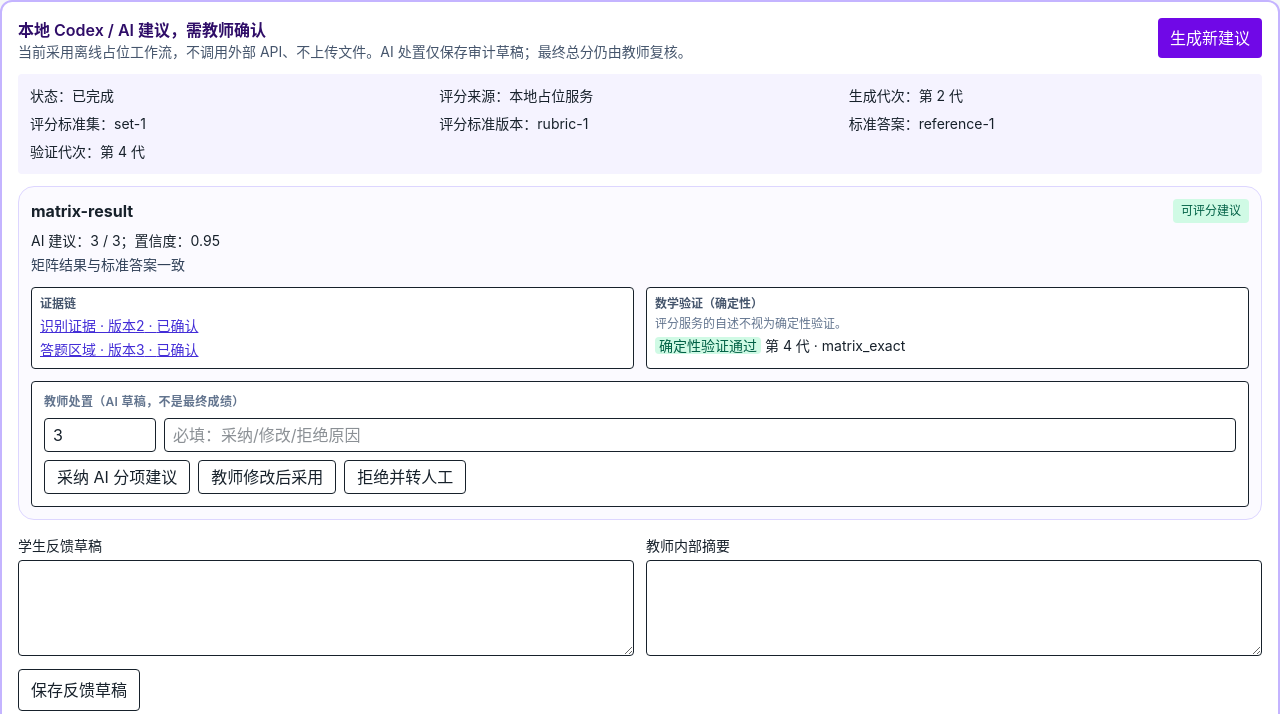
Test: AIGradingReview › surfaces duplicate disposition errors and prevents rapid double submits
Expected: the text "matrix-result" is shown, x1=31 y1=199 x2=133 y2=223
Step 1. Type "重复提交测试" into the field named "matrix-result 修改原因" → (700, 435), box x1=164 y1=418 x2=1236 y2=452
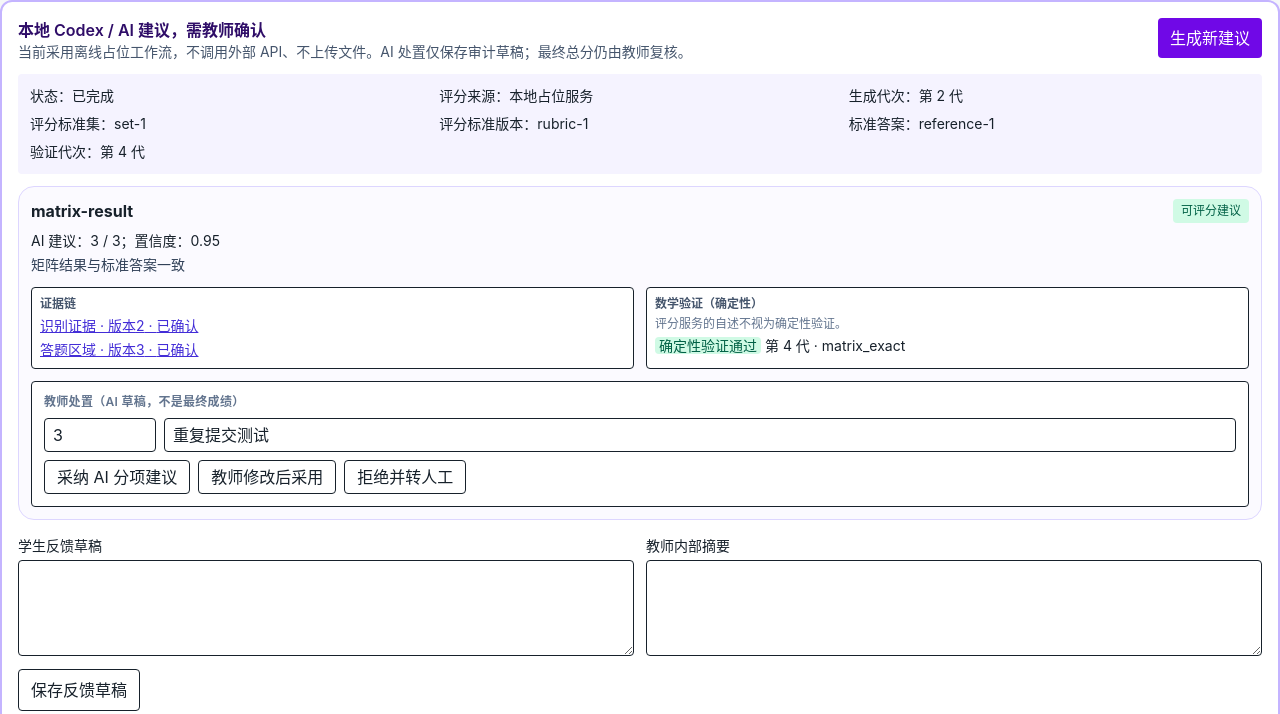
Step 2. Click the button "拒绝并转人工" → (405, 477), box x1=344 y1=460 x2=466 y2=494
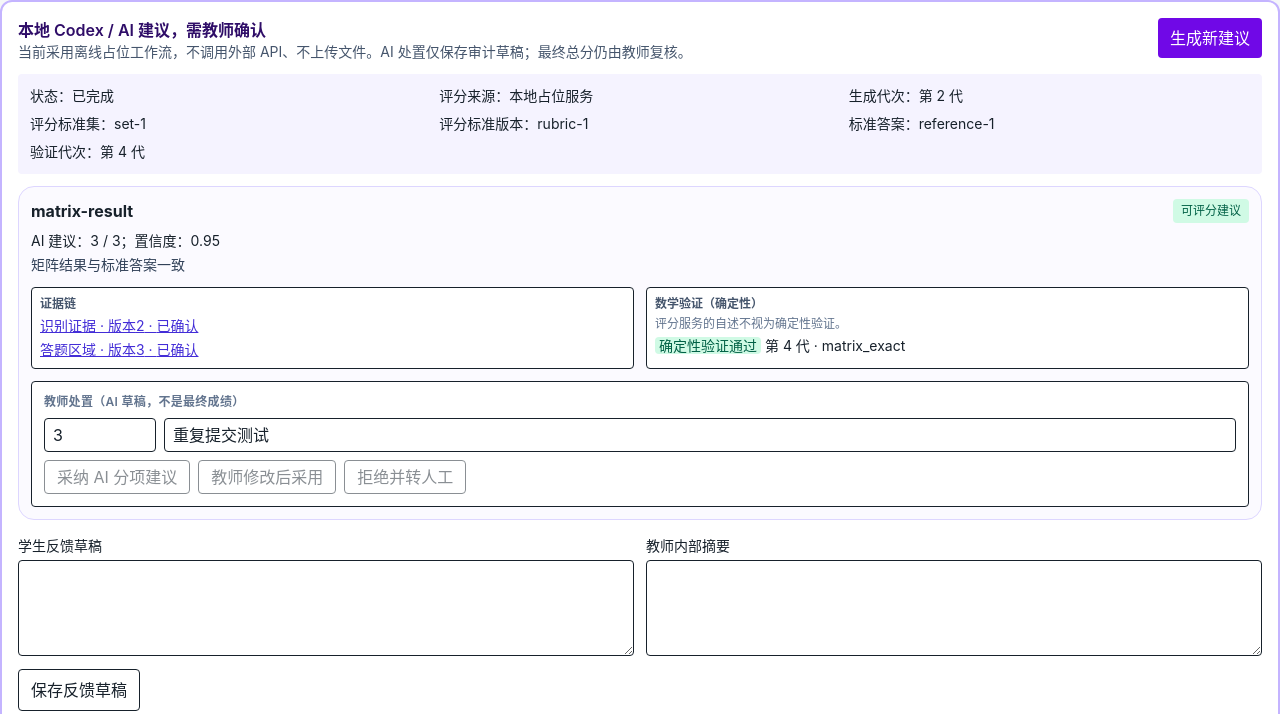
Step 3. Click the button "拒绝并转人工" → (405, 477), box x1=344 y1=460 x2=466 y2=494
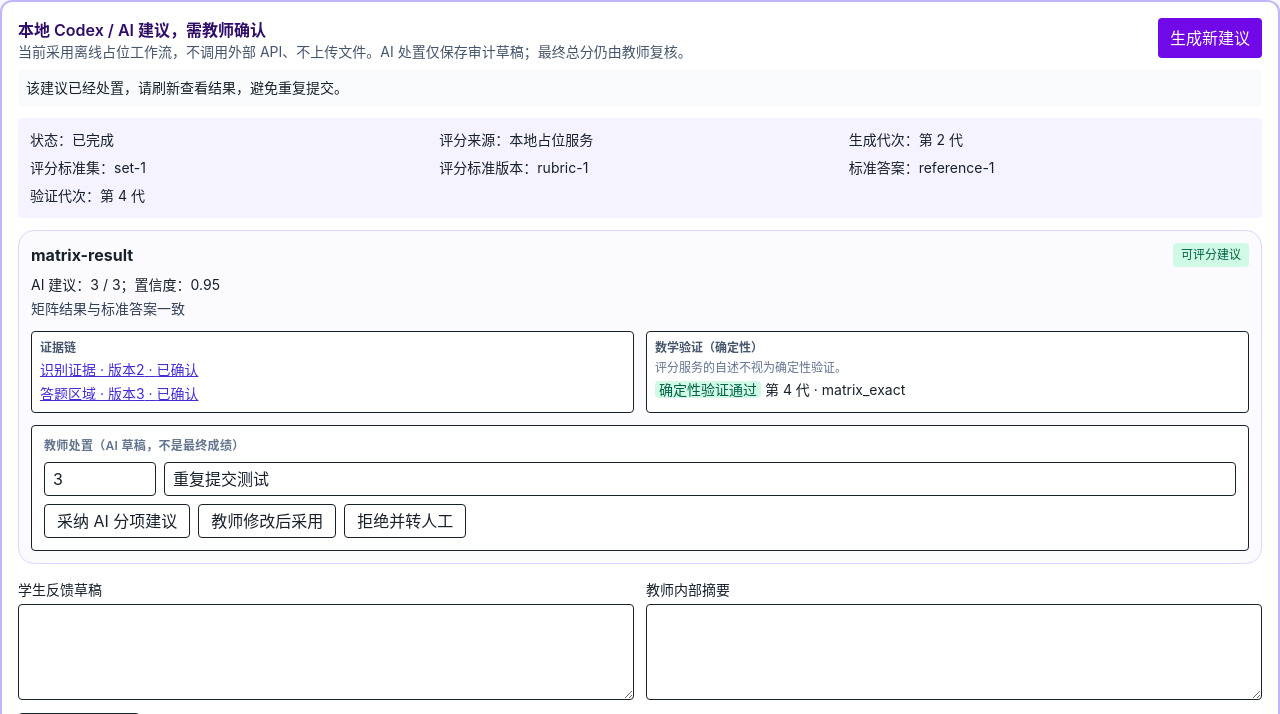
Expected: the message shows "已经处置", x1=26 y1=79 x2=348 y2=96
